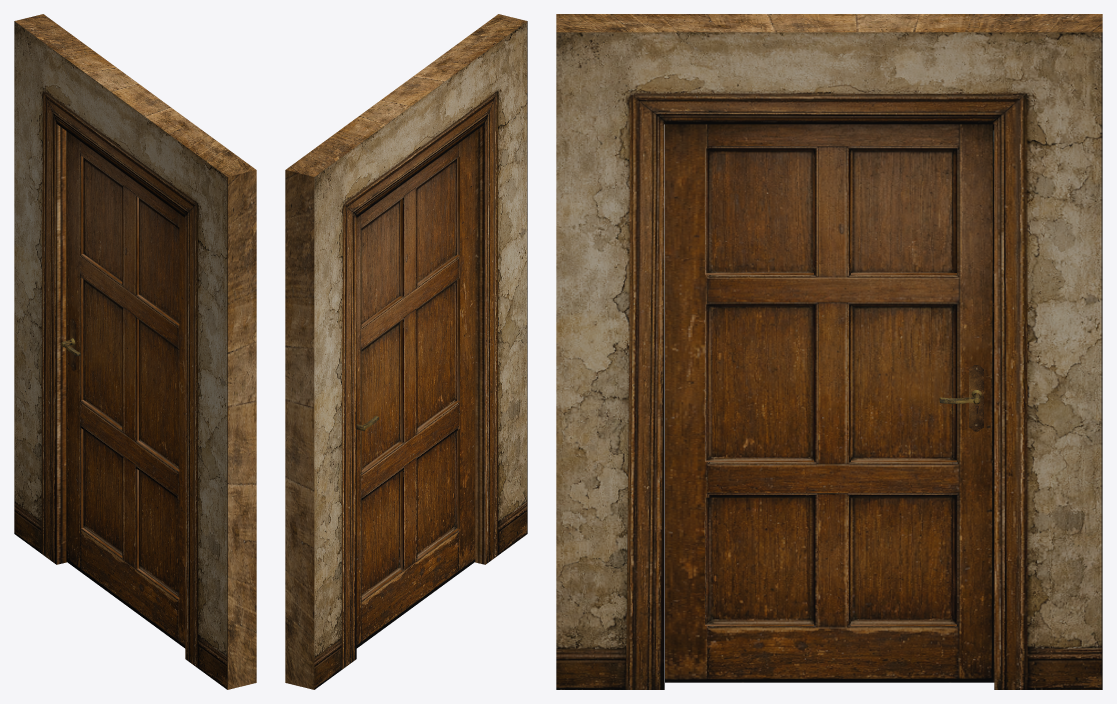
File: simple_room_door.glb
3 renders of one model, left to right at view 1: azimuth 30°, elevation 25°; view 2: azimuth 150°, elevation 25°; view 3: azimuth 270°, elevation 25°, orthographic. The views are drawn at different scales.
Visible parts, largest first — view 1: Frame, Door; view 2: Frame, Door; view 3: Door, Frame.
Part boxes in pixels (bbox=[...]): Frame: bbox=[14, 14, 256, 689]; Door: bbox=[66, 131, 185, 648]; Frame: bbox=[285, 14, 527, 689]; Door: bbox=[356, 131, 475, 648]; Door: bbox=[665, 124, 994, 682]; Frame: bbox=[556, 14, 1102, 689].
Size of the model in its own units: 0.292 by 4.42 by 3.33.
Materials: 2 (2 with a texture image).
